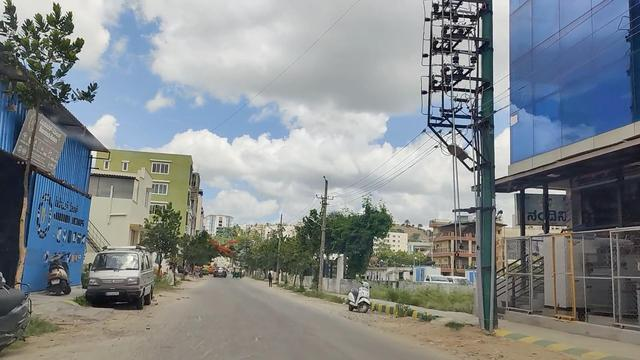LMV: (92, 244, 153, 303), (337, 278, 382, 312)
